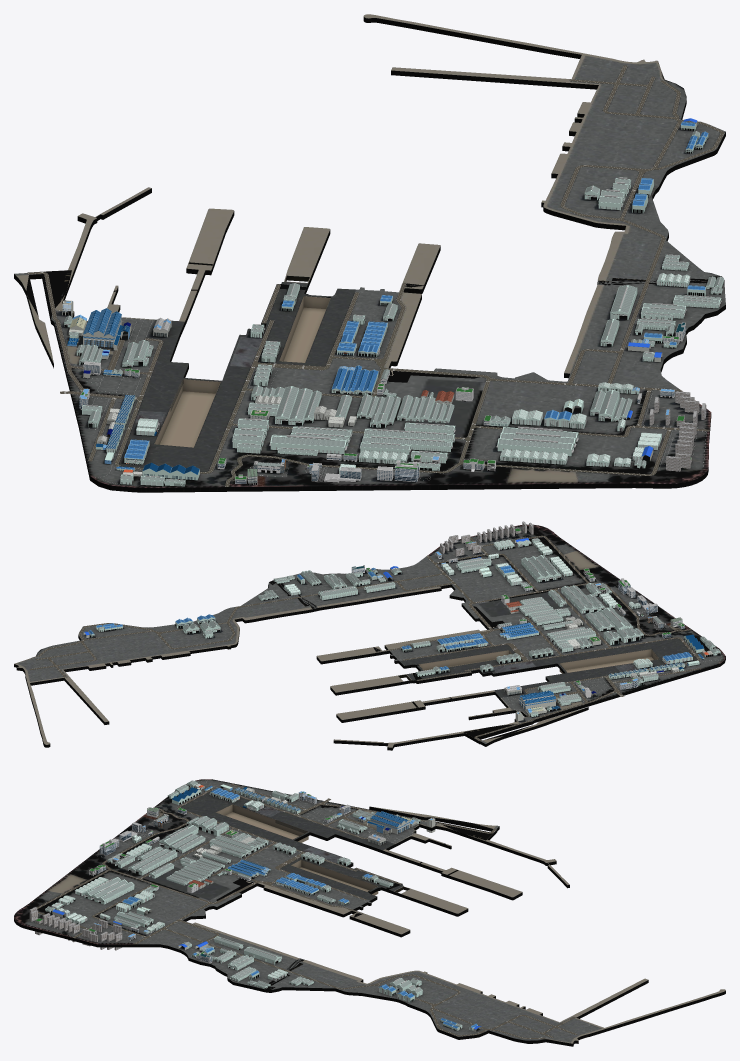
Rendered from okpo.glb.
The picture shows the model from 3 angles, top to bottom: view 1: azimuth 30°, elevation 25°; view 2: azimuth 150°, elevation 25°; view 3: azimuth 270°, elevation 25°; orthographic projection. The views are drawn at different scales.
Visible parts, largest first — view 1: Okpo Yard; view 2: Okpo Yard; view 3: Okpo Yard.
Part boxes in pixels (x1,y1,x2,y2): Okpo Yard: (14, 14, 725, 492); Okpo Yard: (14, 521, 725, 750); Okpo Yard: (14, 779, 725, 1046).
Size of the model in its own units: 3344 by 131 by 3805.
31 materials, 30 textured.
